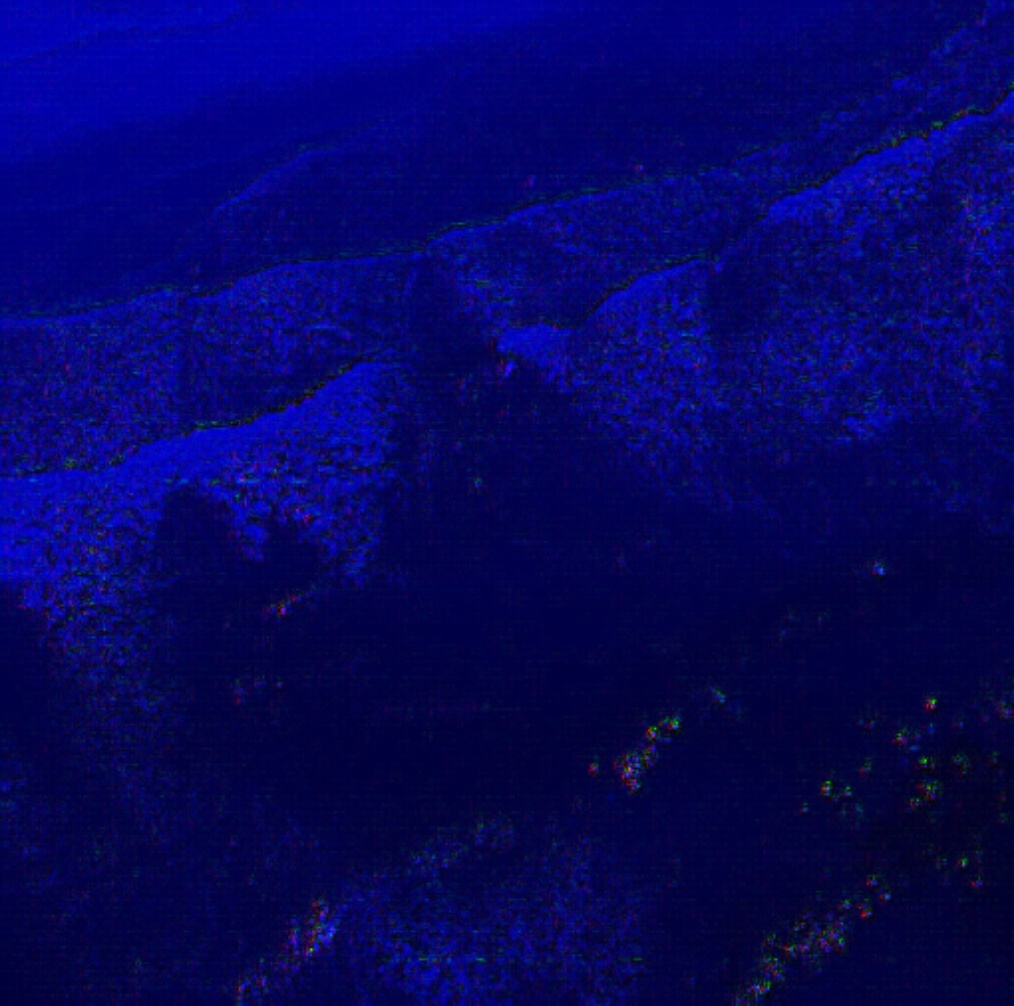rip_current: (320, 197, 638, 617)
